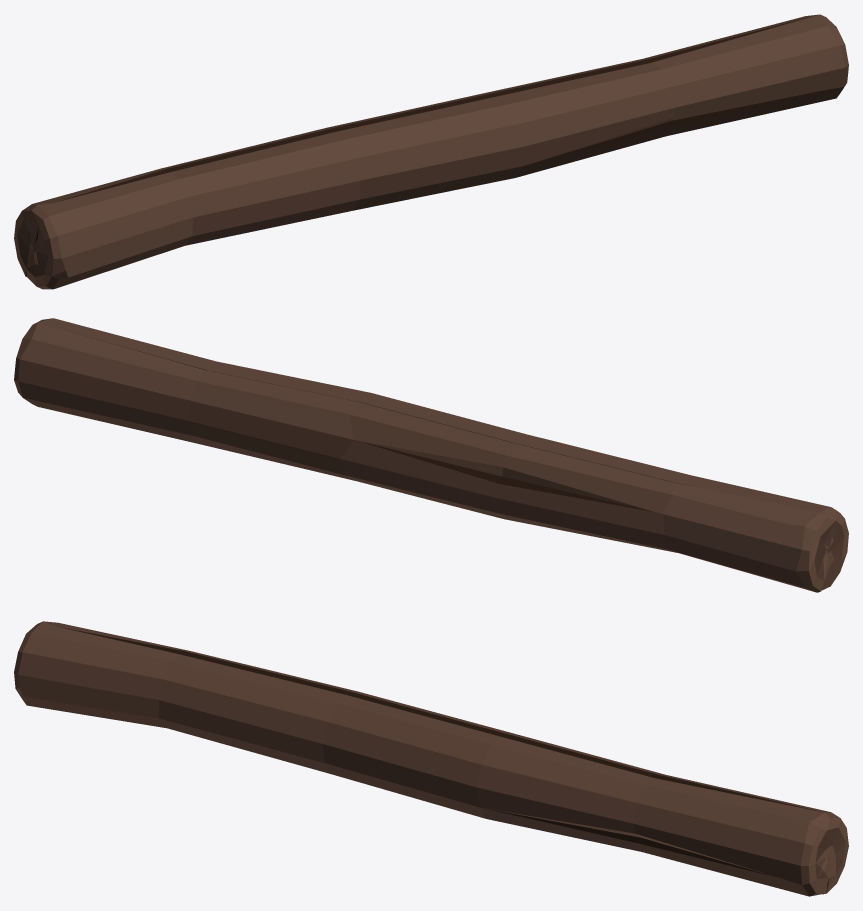
Rendered from Log_Large_01.glb.
The picture shows the model from 3 angles, top to bottom: view 1: azimuth 30°, elevation 25°; view 2: azimuth 150°, elevation 25°; view 3: azimuth 330°, elevation 25°; orthographic projection.
Visible parts, largest first — view 1: Log_Large_01; view 2: Log_Large_01; view 3: Log_Large_01.
Boxes of the visible parts, x1,y1,x2,y2 form: Log_Large_01: (14,14,848,289); Log_Large_01: (14,318,848,592); Log_Large_01: (14,621,848,896).
Size of what is drawn, in the model's own units: 5 by 0.4973 by 0.5222.
1 material, 1 textured.
